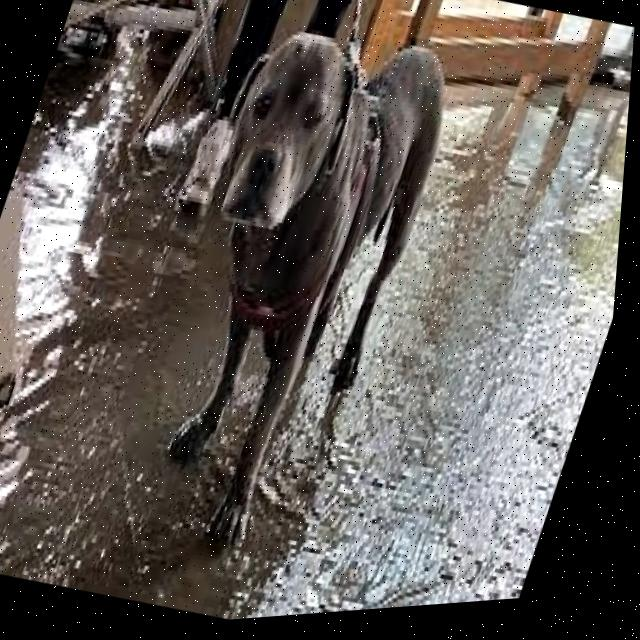dog: (89, 0, 484, 582)
